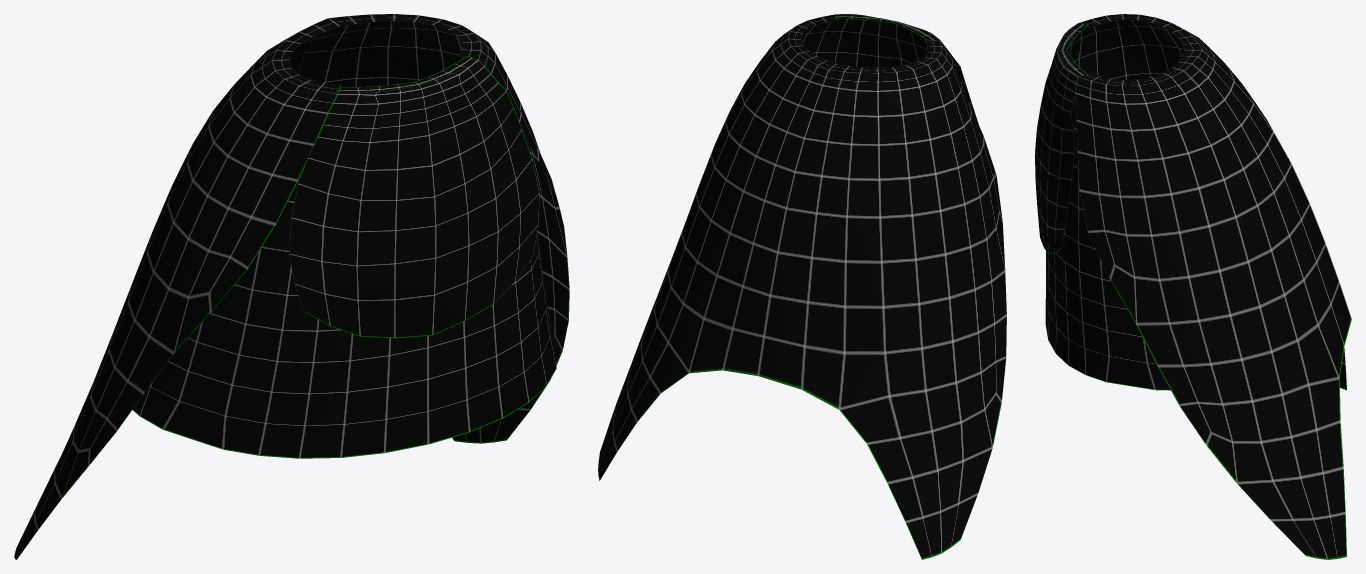
Rendered from shield_skirt_mod.fbx.
3 renders of one model, left to right at view 1: azimuth 30°, elevation 25°; view 2: azimuth 150°, elevation 25°; view 3: azimuth 270°, elevation 25°, orthographic. The views are drawn at different scales.
Parts seen in each view (by area): view 1: shield_skirt_mod; view 2: shield_skirt_mod; view 3: shield_skirt_mod.
Part boxes in pixels (x1,y1,x2,y2): shield_skirt_mod: (14,14,569,559); shield_skirt_mod: (598,14,1006,559); shield_skirt_mod: (1035,14,1351,559).
Size of the model in its own units: 47.88 by 50.56 by 34.26.
